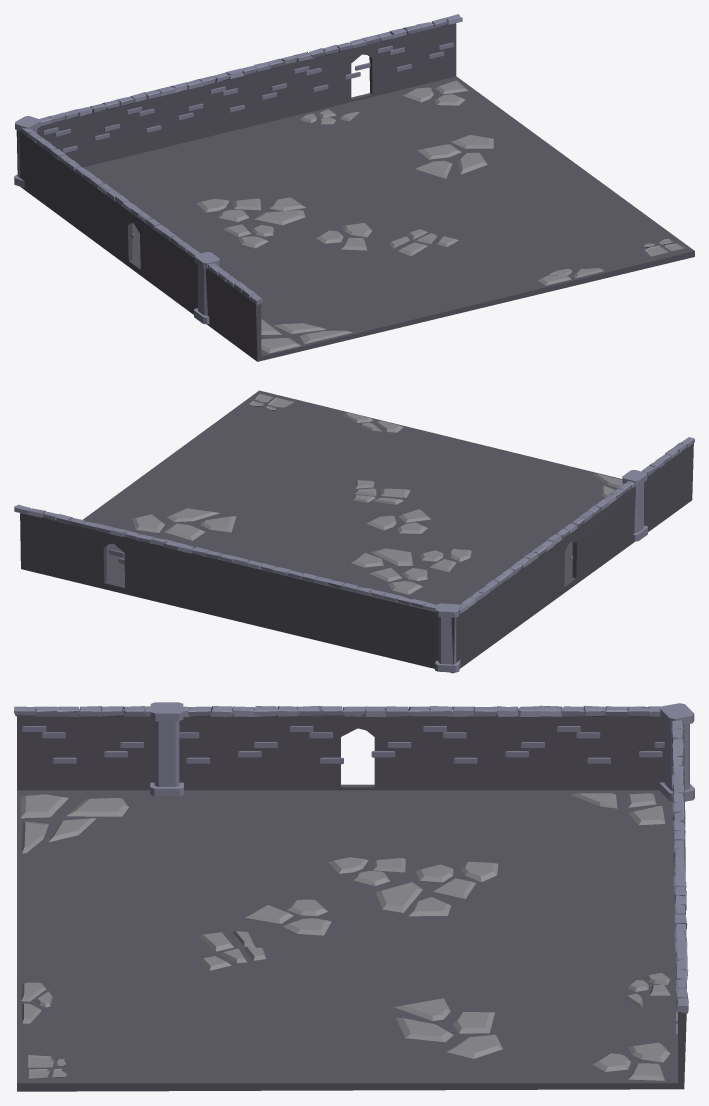
3 renders of one model, top to bottom at view 1: azimuth 30°, elevation 25°; view 2: azimuth 150°, elevation 25°; view 3: azimuth 270°, elevation 25°, orthographic. The views are drawn at different scales.
Parts seen in each view (by area): view 1: Dungon2, Rock.002, Cube.009, Cube.008, BricksOnWall.003, Cube.006; view 2: Dungon2, Rock.002, Cube.009, Cube.008, Cube.007, Cube.006; view 3: Dungon2, Rock.002, Cube.008, BricksOnWall.002, Cube.009, Cube.006, Cube.007.
Boxes of the visible parts, x1=… form: Dungon2: x1=16, y1=22, x2=694, y2=361; Rock.002: x1=196, y1=80, x2=685, y2=353; Cube.009: x1=39, y1=14, x2=462, y2=125; Cube.008: x1=20, y1=127, x2=263, y2=304; BricksOnWall.003: x1=43, y1=42, x2=453, y2=153; Cube.006: x1=194, y1=252, x2=219, y2=324; Dungon2: x1=20, y1=390, x2=693, y2=673; Rock.002: x1=132, y1=394, x2=623, y2=594; Cube.009: x1=14, y1=504, x2=436, y2=611; Cube.008: x1=459, y1=437, x2=694, y2=613; Cube.007: x1=435, y1=603, x2=460, y2=672; Cube.006: x1=622, y1=470, x2=647, y2=541; Dungon2: x1=17, y1=711, x2=686, y2=1091; Rock.002: x1=20, y1=793, x2=670, y2=1080; Cube.008: x1=14, y1=705, x2=661, y2=717; BricksOnWall.002: x1=22, y1=726, x2=664, y2=764; Cube.009: x1=671, y1=720, x2=688, y2=1013; Cube.006: x1=150, y1=702, x2=183, y2=796; Cube.007: x1=659, y1=703, x2=694, y2=801.
Bounding box in the file's own units: 2912 × 406 × 2767.
